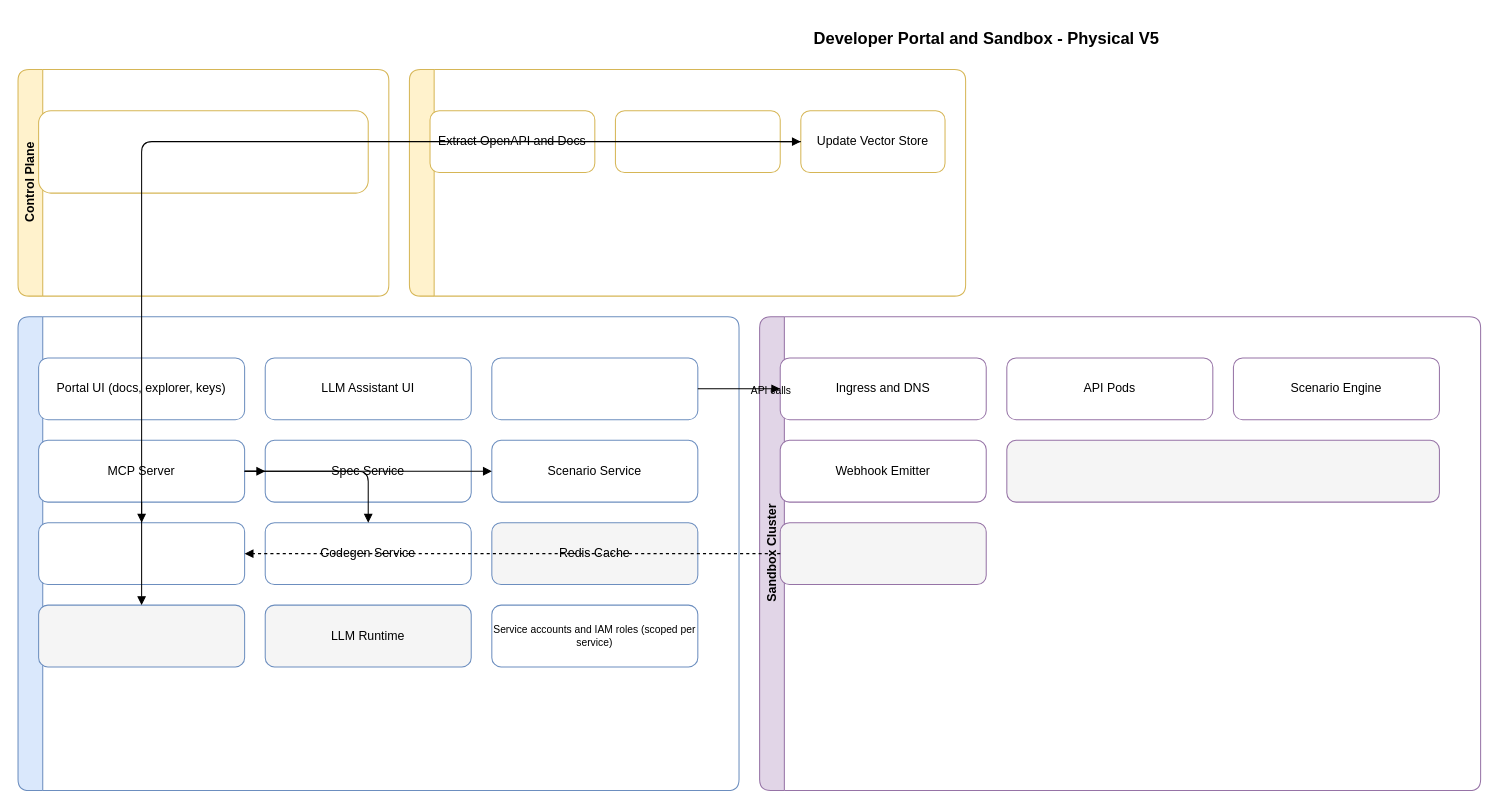
Image size: 1499x809. Some labels were removed from this diagram. The box of each missing label's shape, as (x1, y1, x2, y2) in pixels:
Build Embeddings: (614, 110, 780, 173)
CI Content Pipeline: (408, 68, 966, 296)
Database (schema per namespace): (1006, 439, 1439, 502)
Namespace Manager (create namespaces, seed data, TTL): (38, 110, 368, 193)
Observability Collector: (779, 522, 986, 585)
Observability Proxy: (38, 522, 245, 585)
Portal API: (491, 357, 698, 420)
Portal Cluster: (17, 316, 739, 791)
Vector Store: (38, 604, 245, 667)
